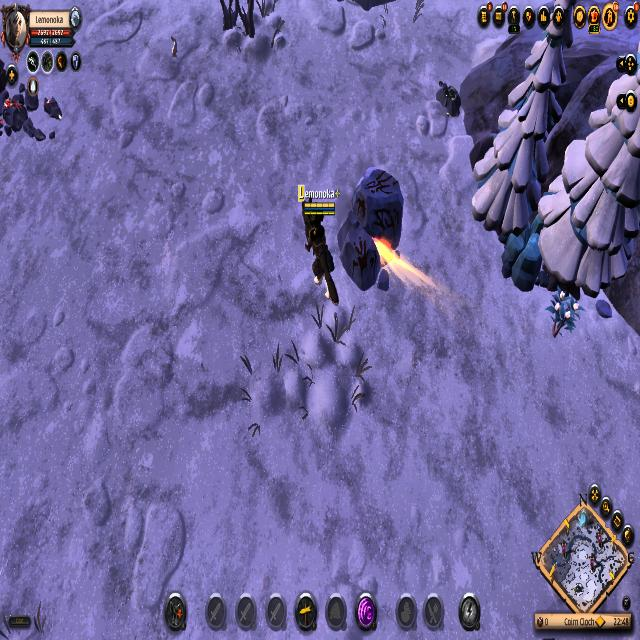fiber tier 4: (548, 288, 582, 345)
